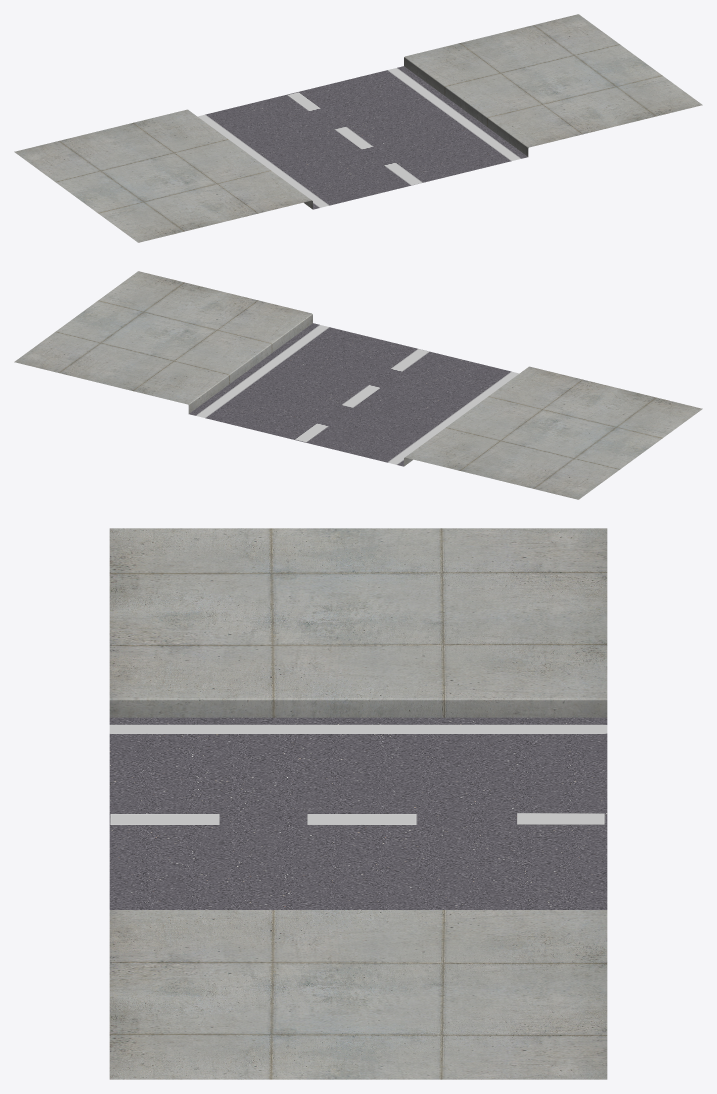
Rendered from Street_Final_2lanes.fbx.
The picture shows the model from 3 angles, top to bottom: view 1: azimuth 30°, elevation 25°; view 2: azimuth 150°, elevation 25°; view 3: azimuth 270°, elevation 25°; orthographic projection. The views are drawn at different scales.
Parts seen in each view (by area): view 1: SIdewalk3; view 2: SIdewalk3; view 3: SIdewalk3.
Boxes of the visible parts, x1,y1,x2,y2 form: SIdewalk3: [14, 14, 702, 242]; SIdewalk3: [14, 271, 702, 499]; SIdewalk3: [109, 528, 607, 1079].
Bounding box in the file's own units: 979 × 15.58 × 373.
Materials: 2 (2 with a texture image).
